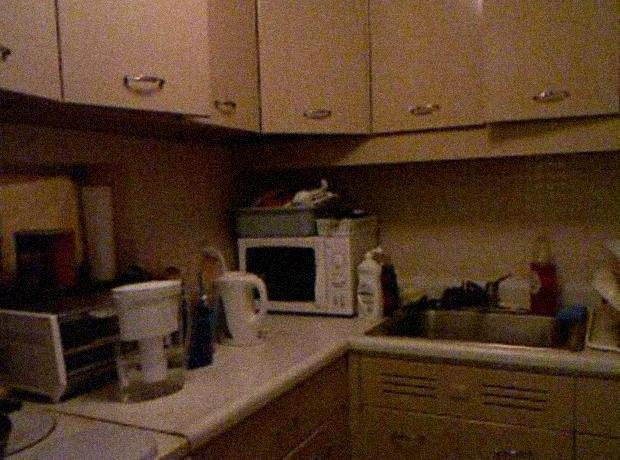Lavaplatos: (358, 267, 598, 376)
